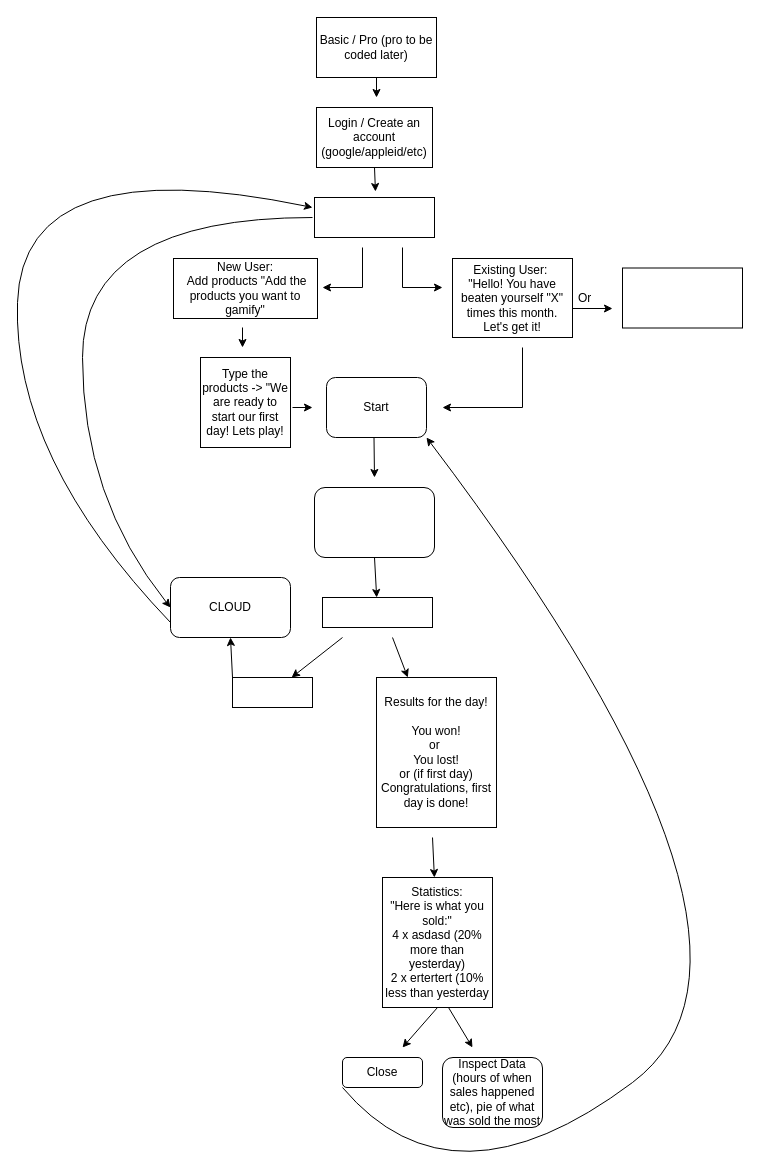
The diagram is 761 pixels wide and 1169 high, and some of its shapes have lost their labels. The shapes that lost their labels are listed below. From the top down, each one's centre as x and y in pixels, then its label:
point 374,217: Create an account / search user data
point 682,297: Settings (three bars) : for products, statistics, upgrade
point 374,522: Buttons with the gamified products and each time you sell, click it.
point 377,612: "End Session"
point 272,692: Saved data
